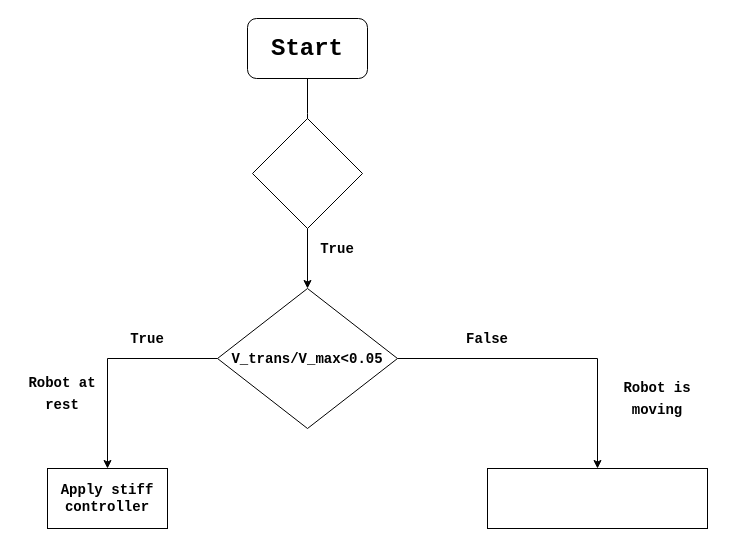
This 734x547 diagram has some shape labels left out. The shapes that lost their labels are listed below. From the top down, each one's centre as x and y in pixels, then its label:
At point (307, 173): "Mode = Balance".
At point (597, 498): "Change to a softer controller to avoid jerks".
